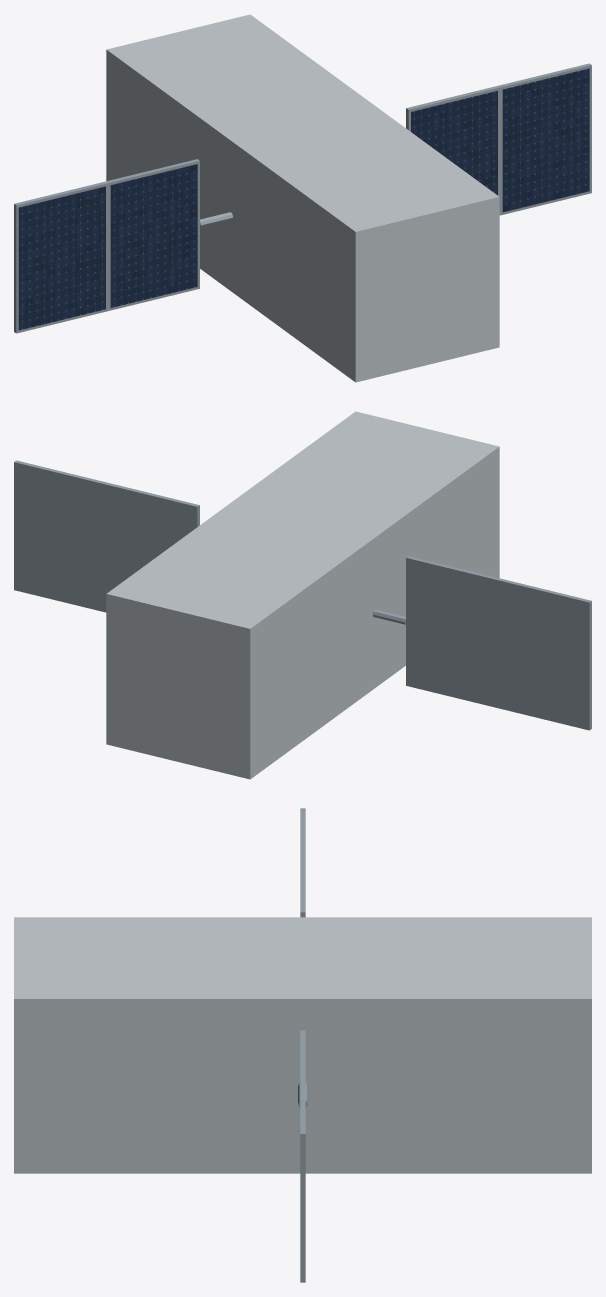
File: ref-aquila-geostar-1-37364.glb
3 renders of one model, top to bottom at view 1: azimuth 30°, elevation 25°; view 2: azimuth 150°, elevation 25°; view 3: azimuth 270°, elevation 25°, orthographic. The views are drawn at different scales.
Visible parts, largest first — view 1: Spacecraft body, Photovoltaic laminates (×4), Array frame (×4); view 2: Spacecraft body, Array frame (×4); view 3: Spacecraft body, Array frame.
Part boxes in pixels (bbox=[...]): Spacecraft body: bbox=[106, 14, 499, 382]; Photovoltaic laminates (×4): bbox=[18, 68, 589, 330]; Array frame (×4): bbox=[14, 63, 591, 333]; Spacecraft body: bbox=[106, 411, 499, 779]; Array frame (×4): bbox=[14, 460, 591, 730]; Spacecraft body: bbox=[14, 917, 591, 1173]; Array frame: bbox=[300, 1082, 305, 1282].
Size of the model in its own units: 2 by 0.5 by 1.5.
3 materials, 1 textured.
